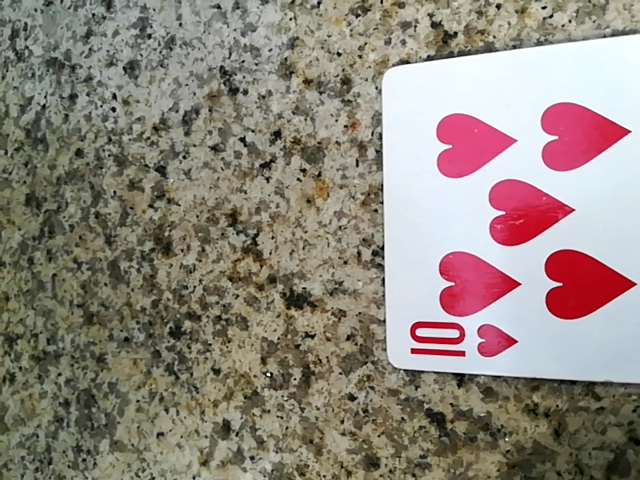hx 10: (379, 15, 640, 390)
